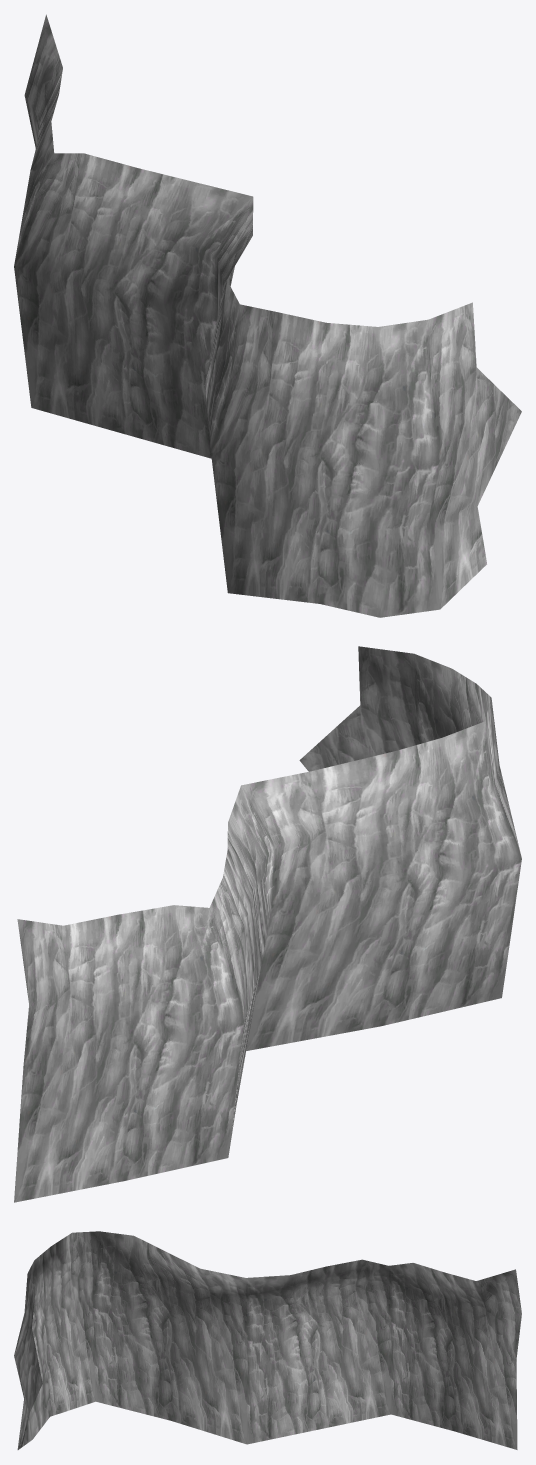
File: SWORDLIGHT20_PS-AREA03_158.fbx
3 renders of one model, top to bottom at view 1: azimuth 30°, elevation 25°; view 2: azimuth 150°, elevation 25°; view 3: azimuth 270°, elevation 25°, orthographic. The views are drawn at different scales.
Visible parts, largest first — view 1: SWORDLIGHT20_PS-AREA03_158; view 2: SWORDLIGHT20_PS-AREA03_158; view 3: SWORDLIGHT20_PS-AREA03_158.
Boxes of the visible parts, <box> form: SWORDLIGHT20_PS-AREA03_158: <box>14,14,521,617</box>; SWORDLIGHT20_PS-AREA03_158: <box>14,646,521,1202</box>; SWORDLIGHT20_PS-AREA03_158: <box>14,1231,521,1449</box>.
Size of the model in its own units: 50950 by 54736 by 134330.
Materials: 1 (1 with a texture image).
